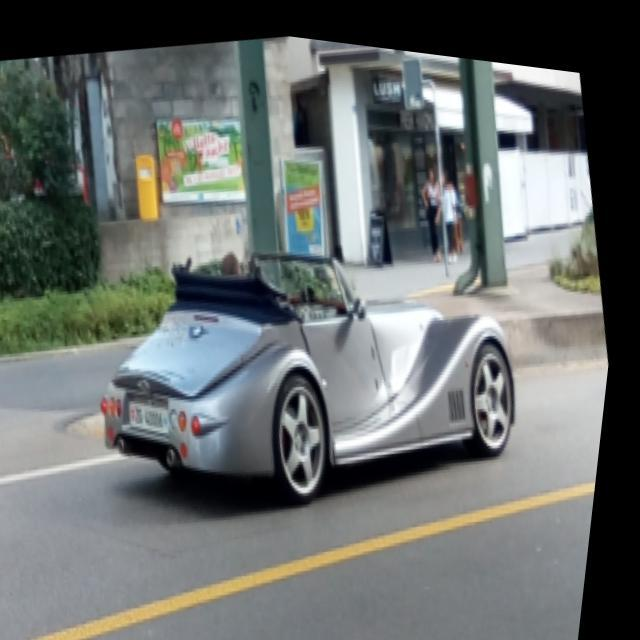license_plate: (134, 386, 182, 434)
